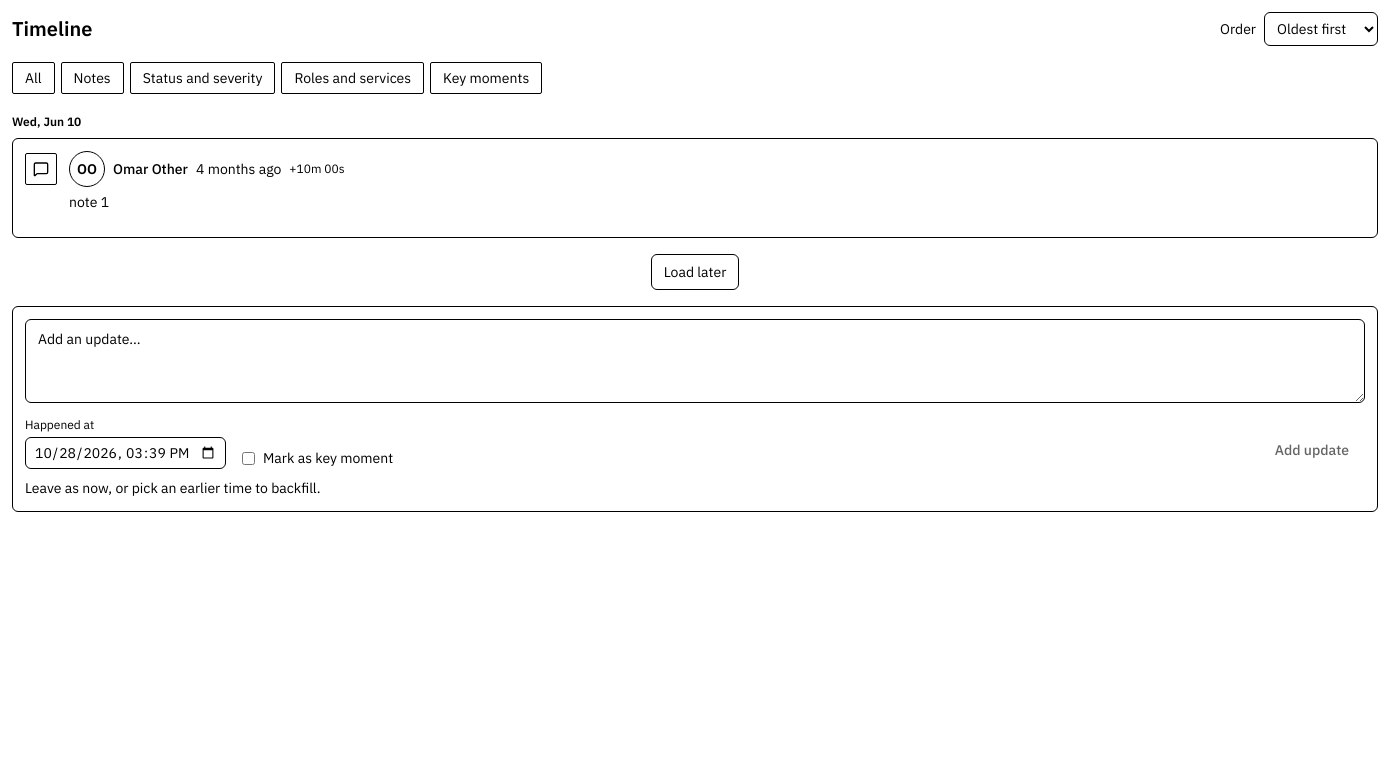
Scenario: long timelines › loads later entries from a cursor and appends them
Click the button "Load later". click: {"x": 695, "y": 272}
box: [651,254,739,290]
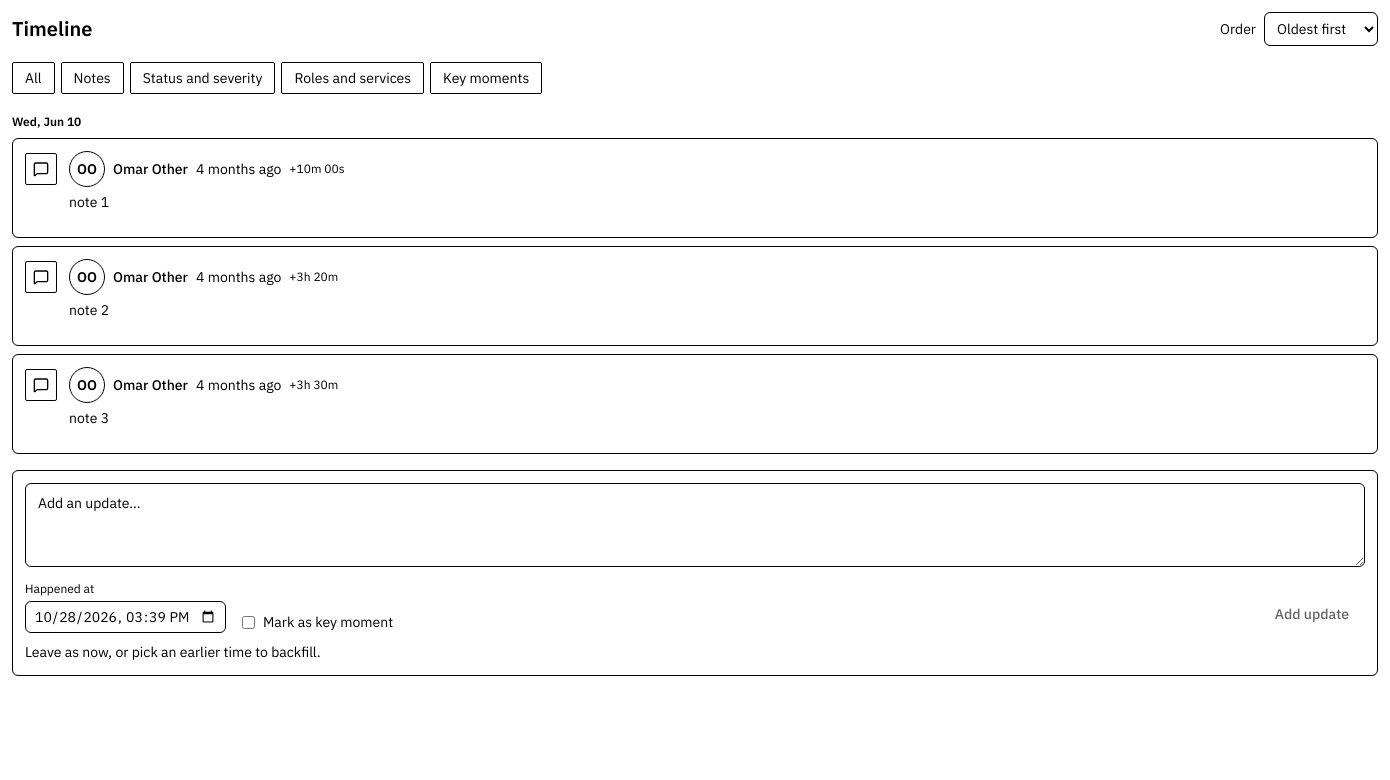
Result: the button "Load later" is gone
